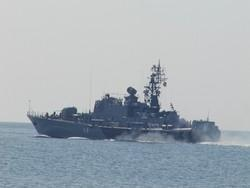warship: (25, 56, 224, 143)
